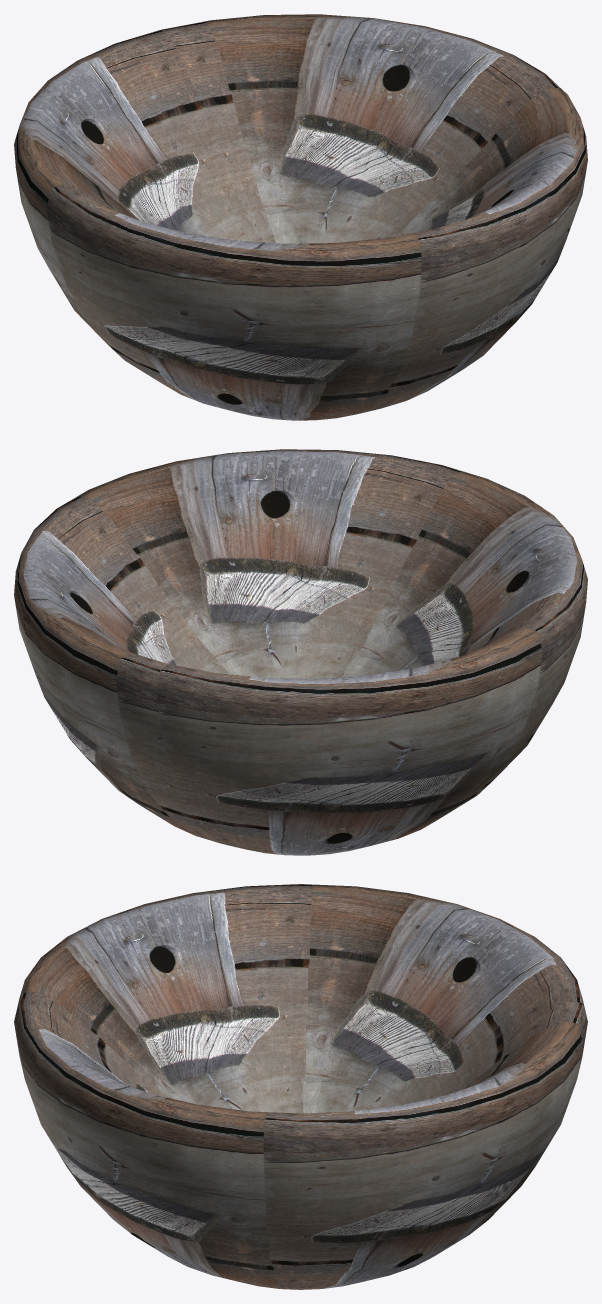
The model's file is bowl.DAE.
3 renders of one model, top to bottom at view 1: azimuth 30°, elevation 25°; view 2: azimuth 150°, elevation 25°; view 3: azimuth 270°, elevation 25°, orthographic.
Visible parts, largest first — view 1: Sphere001; view 2: Sphere001; view 3: Sphere001.
Part boxes in pixels (x1,y1,x2,y2): Sphere001: (14, 14, 587, 420); Sphere001: (14, 449, 587, 855); Sphere001: (14, 884, 587, 1289).
Size of the model in its own units: 43.35 by 43.35 by 21.82.
Materials: 1 (1 with a texture image).
